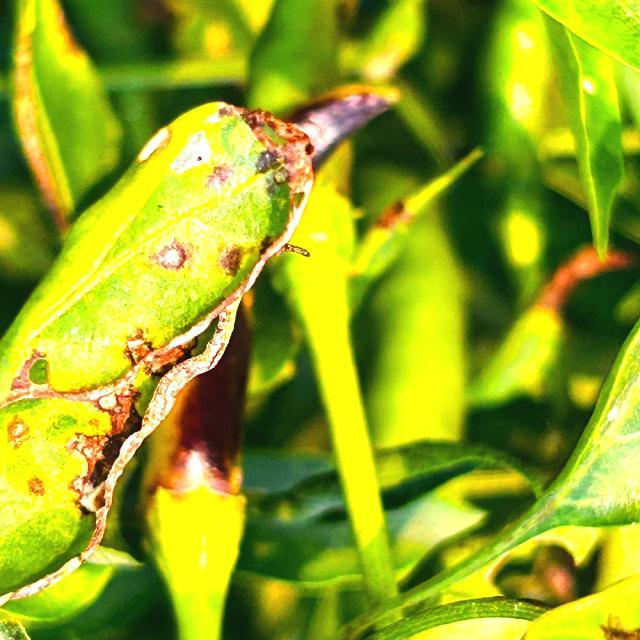Bercak Daun Serkospora: (0, 101, 316, 618)
